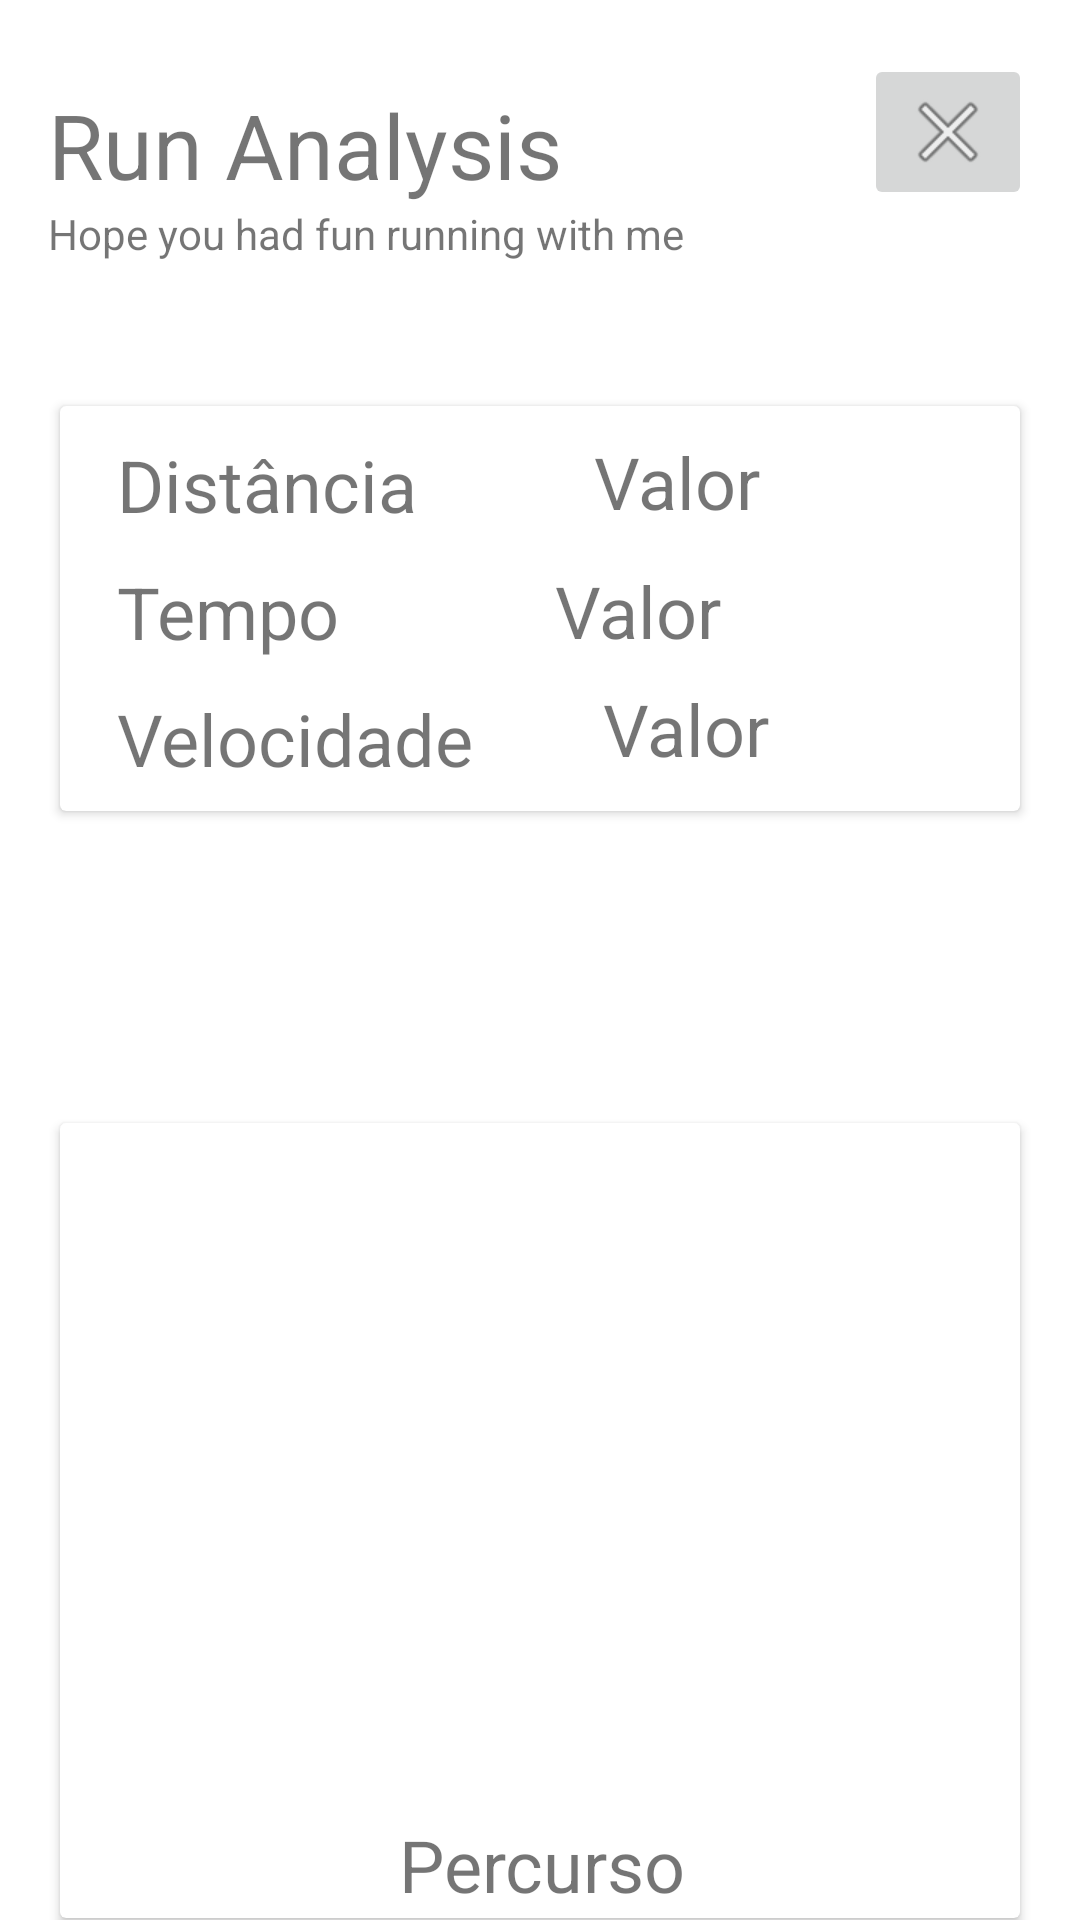

Point at icon controls on the screen. Image size 1080x1920, points as (x,y).
close clear cancel: (948,132)
